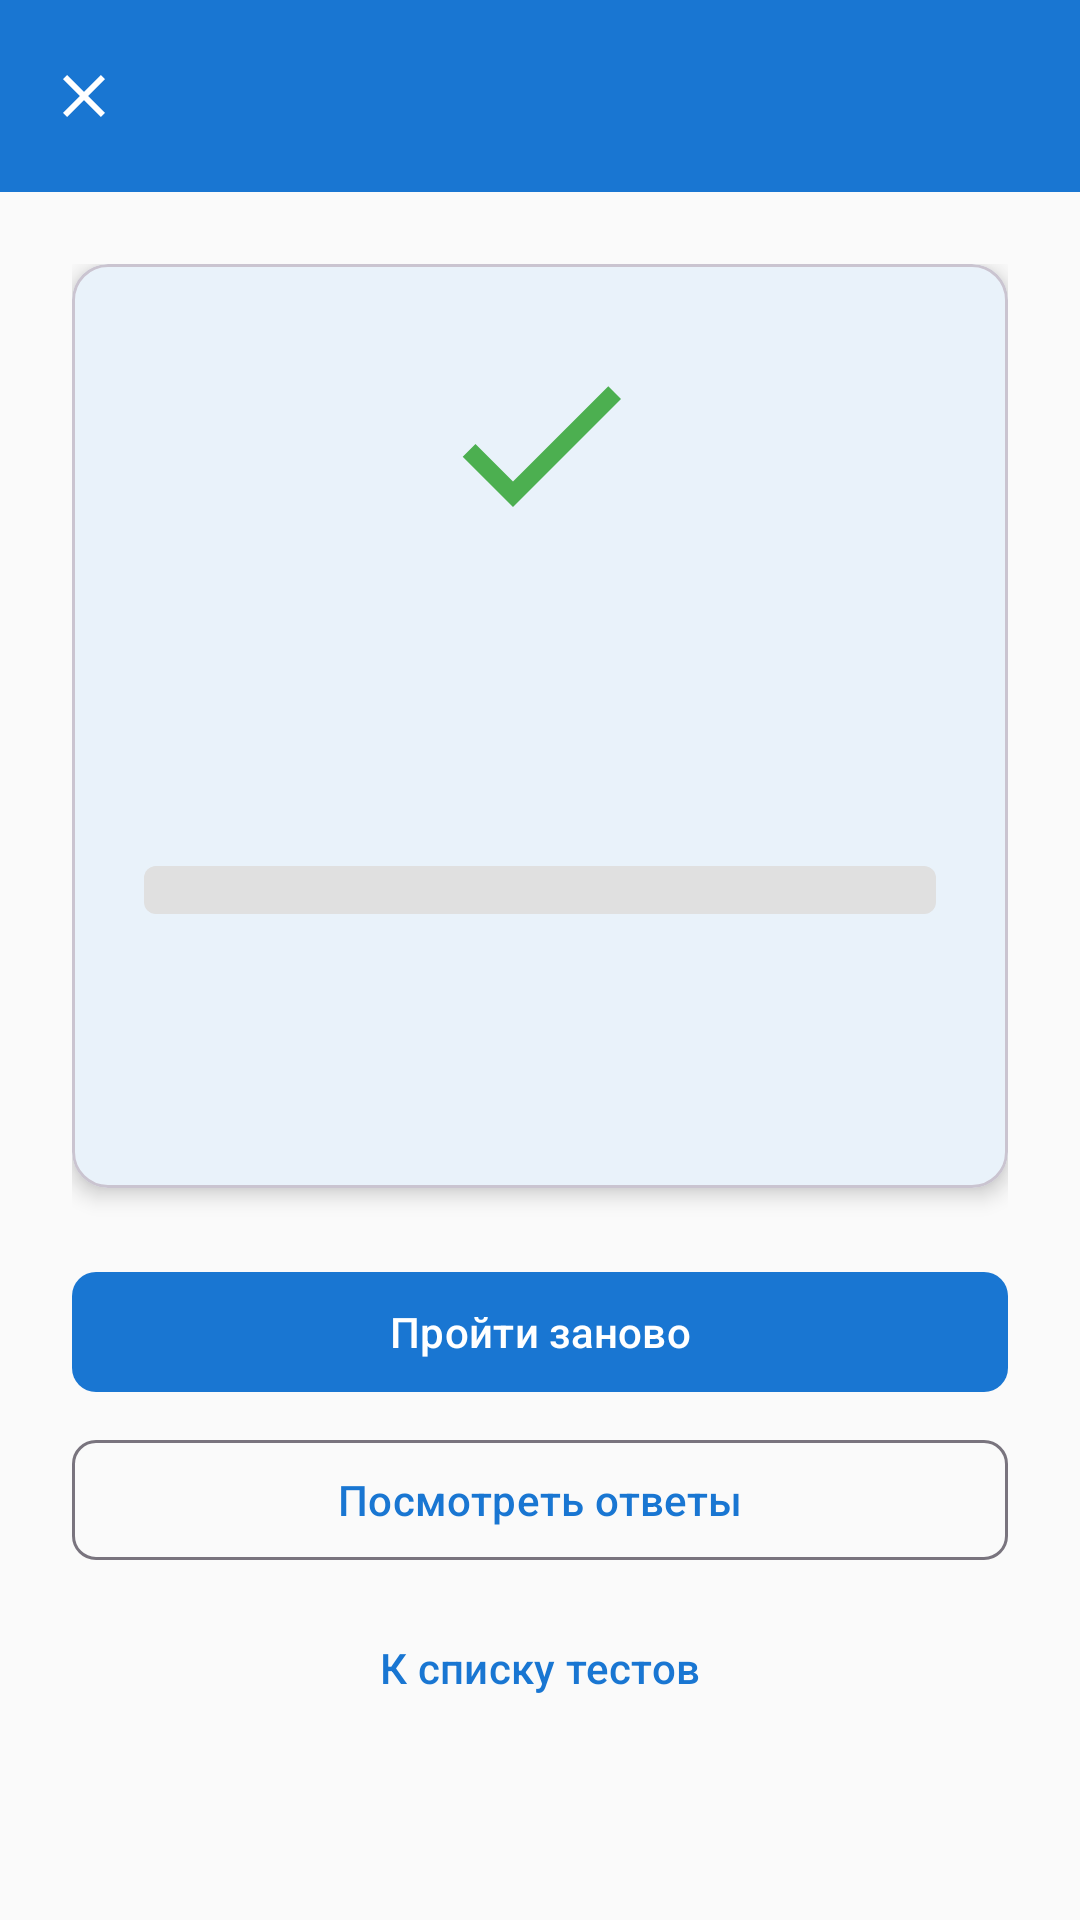

Icons on this 1080*1920 Android screen, each with its box as (x1, y1, x2, y2):
Result icon: (463, 386, 621, 507)
